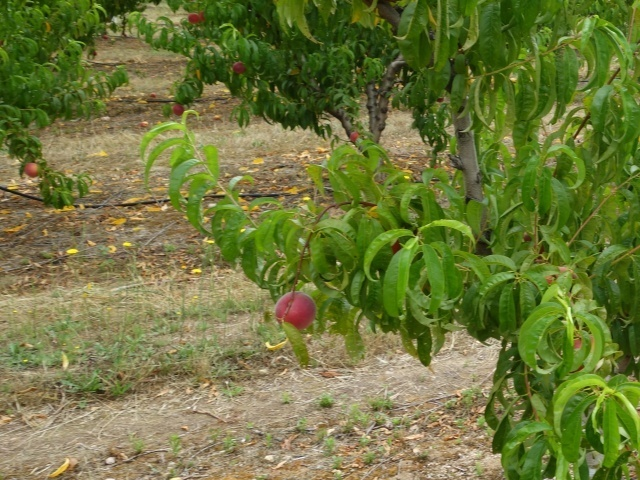peach: (272, 290, 319, 336), (21, 157, 41, 180), (168, 99, 188, 119), (229, 59, 247, 79), (185, 9, 202, 27)
